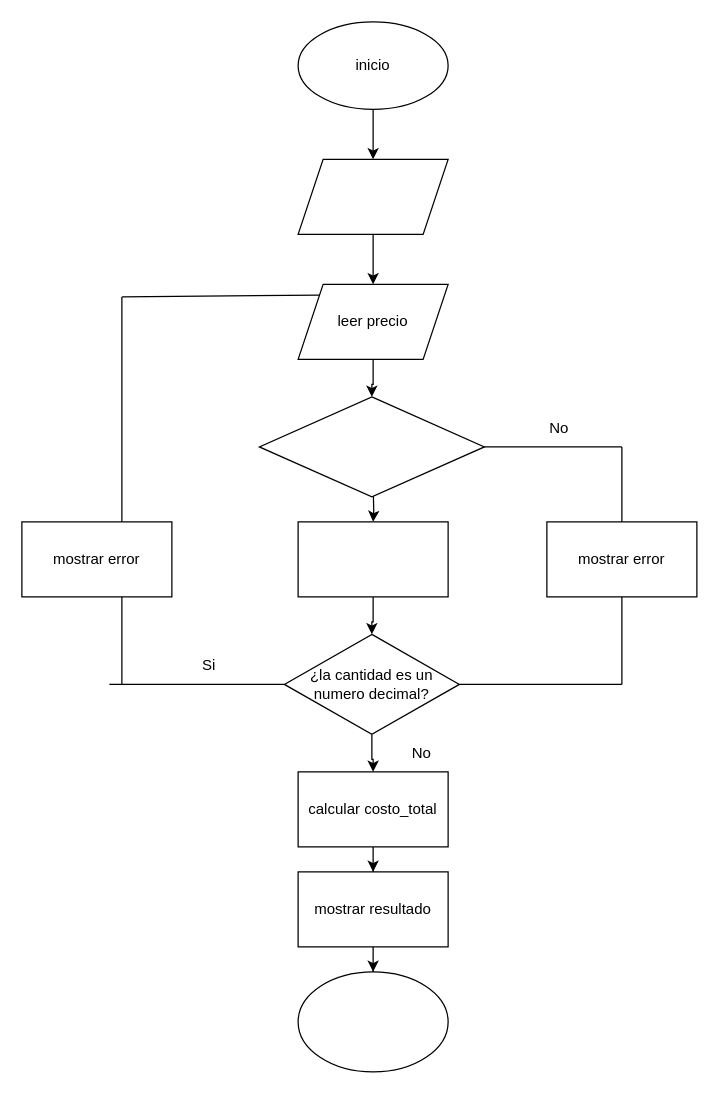
Some shapes in this 719 by 1104 pixel diagram are drawn without their labels. The shapes that lost their labels are listed below. From the top down, each one's centre as x and y in pixels, then its label:
At (x=372, y=196): "leer nombre del producto".
At (x=371, y=446): "¿el precio es un numero decimal?".
At (x=372, y=559): "convertir en float".
At (x=372, y=1021): "fin".
